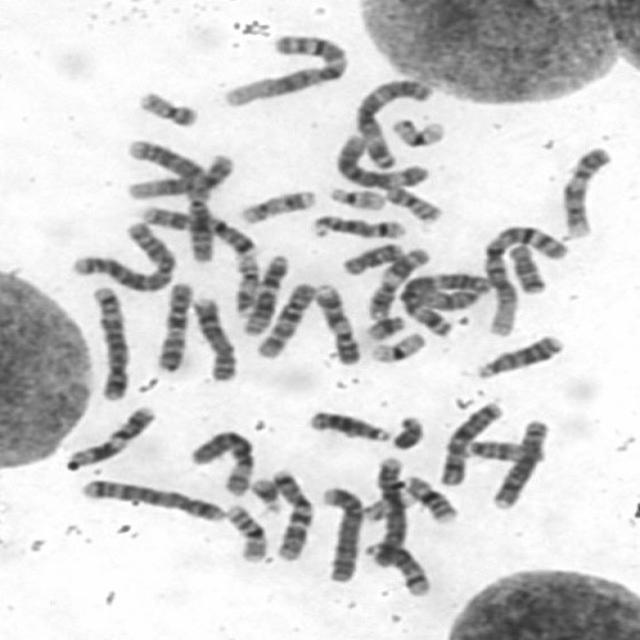A1: (478, 220, 571, 339), (219, 29, 352, 108)
A2: (122, 134, 219, 265), (68, 219, 177, 293)
A3: (351, 75, 433, 170), (396, 269, 495, 338)
B4: (316, 482, 364, 583), (367, 453, 408, 567)
B5: (76, 476, 226, 522), (86, 283, 131, 400)
C10: (250, 279, 318, 361), (152, 277, 195, 373)
C11: (62, 402, 158, 470), (364, 244, 432, 320)
C12: (122, 150, 237, 200), (238, 256, 296, 339)
C6: (332, 132, 431, 190), (185, 427, 255, 498)
C7: (138, 202, 258, 258), (270, 466, 315, 563)
C8: (488, 416, 552, 511), (188, 294, 238, 382)
C9: (558, 143, 614, 241), (311, 281, 361, 367)
D13: (472, 331, 566, 379), (303, 406, 391, 444)
D14: (362, 537, 432, 597), (308, 212, 408, 240)
D15: (413, 282, 492, 311), (462, 437, 544, 462)
E16: (401, 472, 459, 524), (222, 502, 270, 562)
E17: (234, 186, 319, 226), (230, 252, 260, 318)
E18: (338, 238, 405, 277), (504, 240, 551, 295)
F19: (388, 115, 447, 152), (366, 329, 427, 364)
F20: (134, 88, 200, 128), (381, 182, 444, 222)
G21: (248, 474, 284, 516), (361, 312, 406, 341)
G22: (358, 488, 416, 522), (325, 183, 391, 210)
X: (436, 397, 506, 486)
Y: (386, 412, 426, 452)
